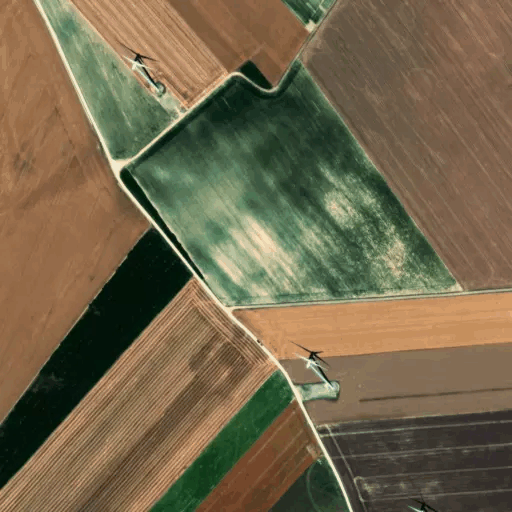wt: (289, 337, 339, 394), (120, 42, 163, 96)
